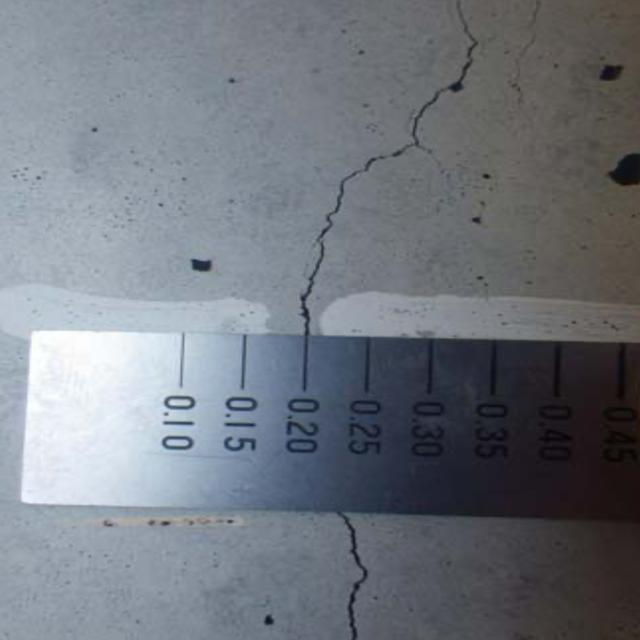crack: (286, 0, 484, 333), (326, 510, 377, 640)
